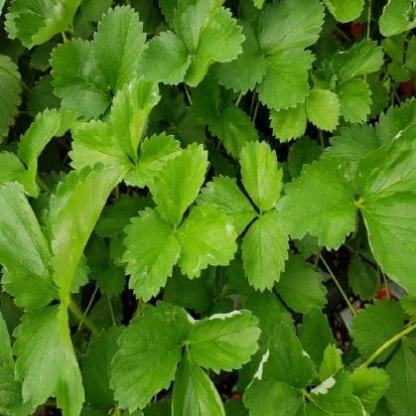Strawberry_Powdery_Mildew_Leaf: (107, 300, 197, 415), (274, 158, 360, 252), (242, 320, 318, 415), (120, 207, 182, 304), (354, 116, 415, 204), (188, 309, 262, 376), (176, 204, 238, 280), (110, 74, 162, 163), (194, 173, 260, 236), (2, 0, 82, 50), (299, 364, 369, 415)
